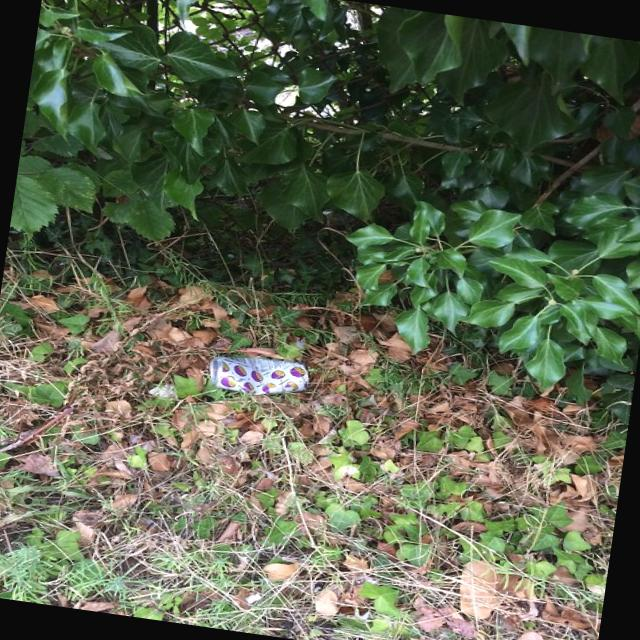Recycle: (206, 348, 313, 402)
